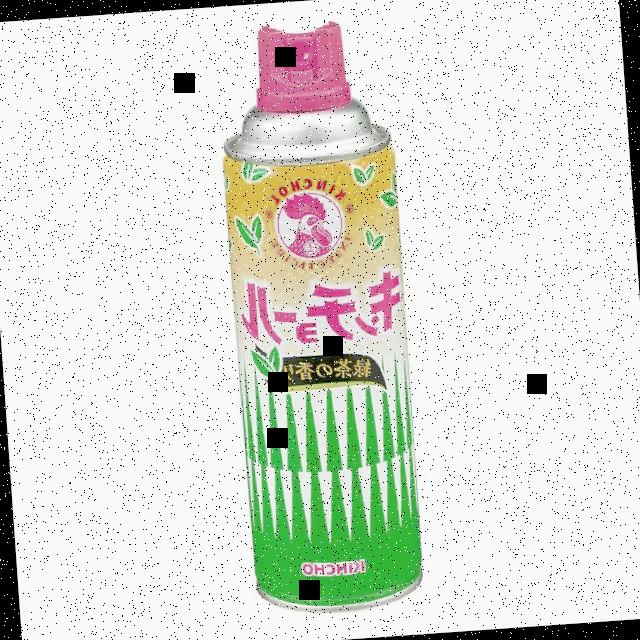chemical_spray_can: (222, 21, 421, 611)
